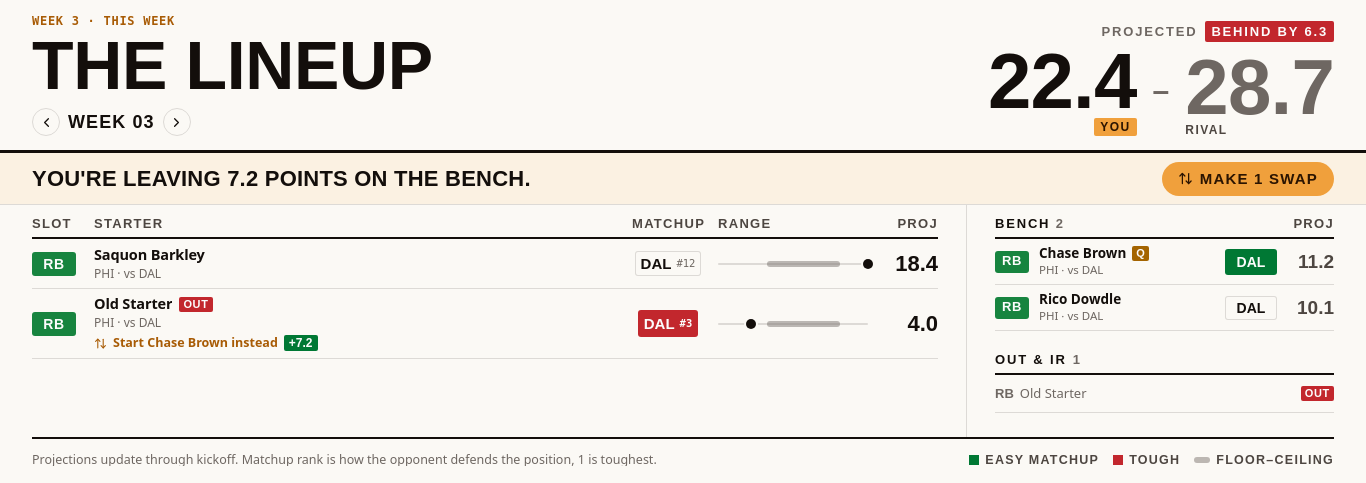
LineupScreen › suggests the swaps, previews them on "Make swaps" and undoes
Expected: the text "You're leaving 7.2 points on the bench." is shown, [32, 168, 531, 190]
Expected: the text "Start Chase Brown instead" is shown, [94, 334, 318, 351]
Click the button "Make 1 swap". click: (1248, 179)
box: [1162, 162, 1334, 196]
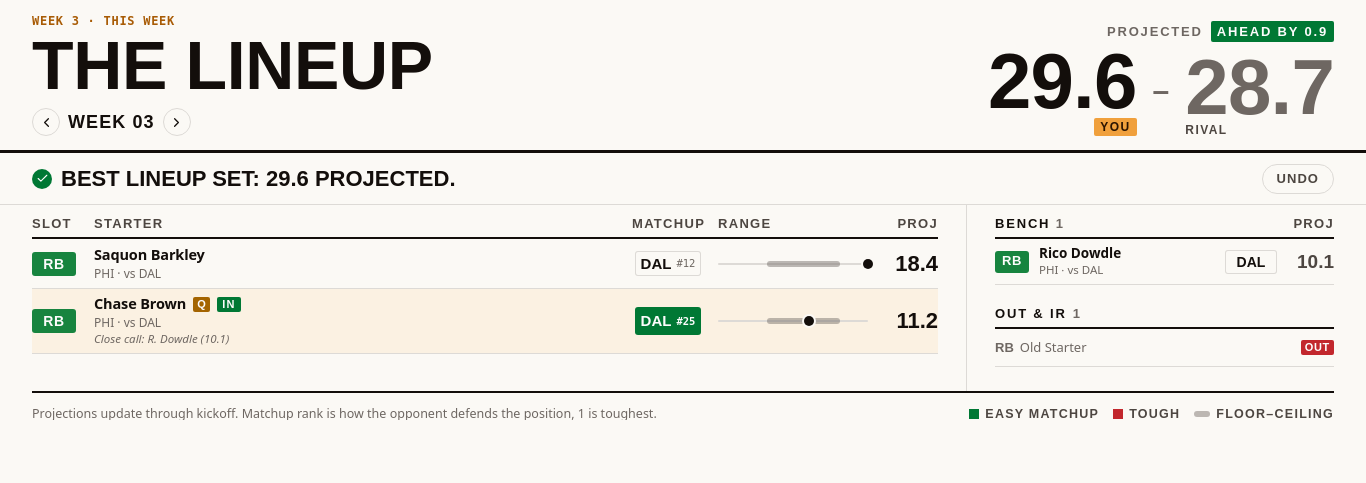
Now the text "Best lineup set: 29.6 projected." is shown, box [32, 168, 456, 190]
Now the text "Q" is shown, box [193, 297, 210, 312]
Now the text "29.6" is shown, box [988, 50, 1137, 112]
Click the button "Undo". click: (1298, 179)
box: [1262, 164, 1334, 194]
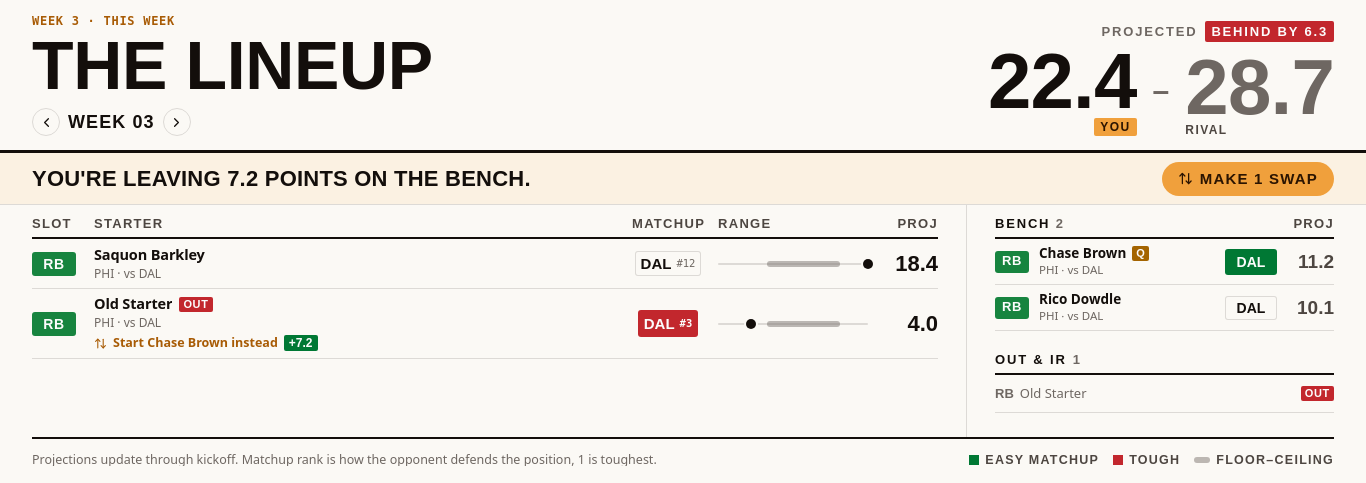
Now the text "You're leaving 7.2 points on the bench." is shown, box [32, 168, 531, 190]
